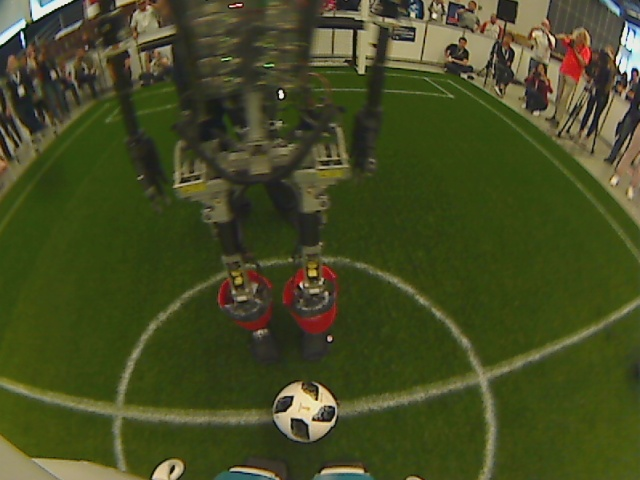ball: (269, 376, 343, 447)
